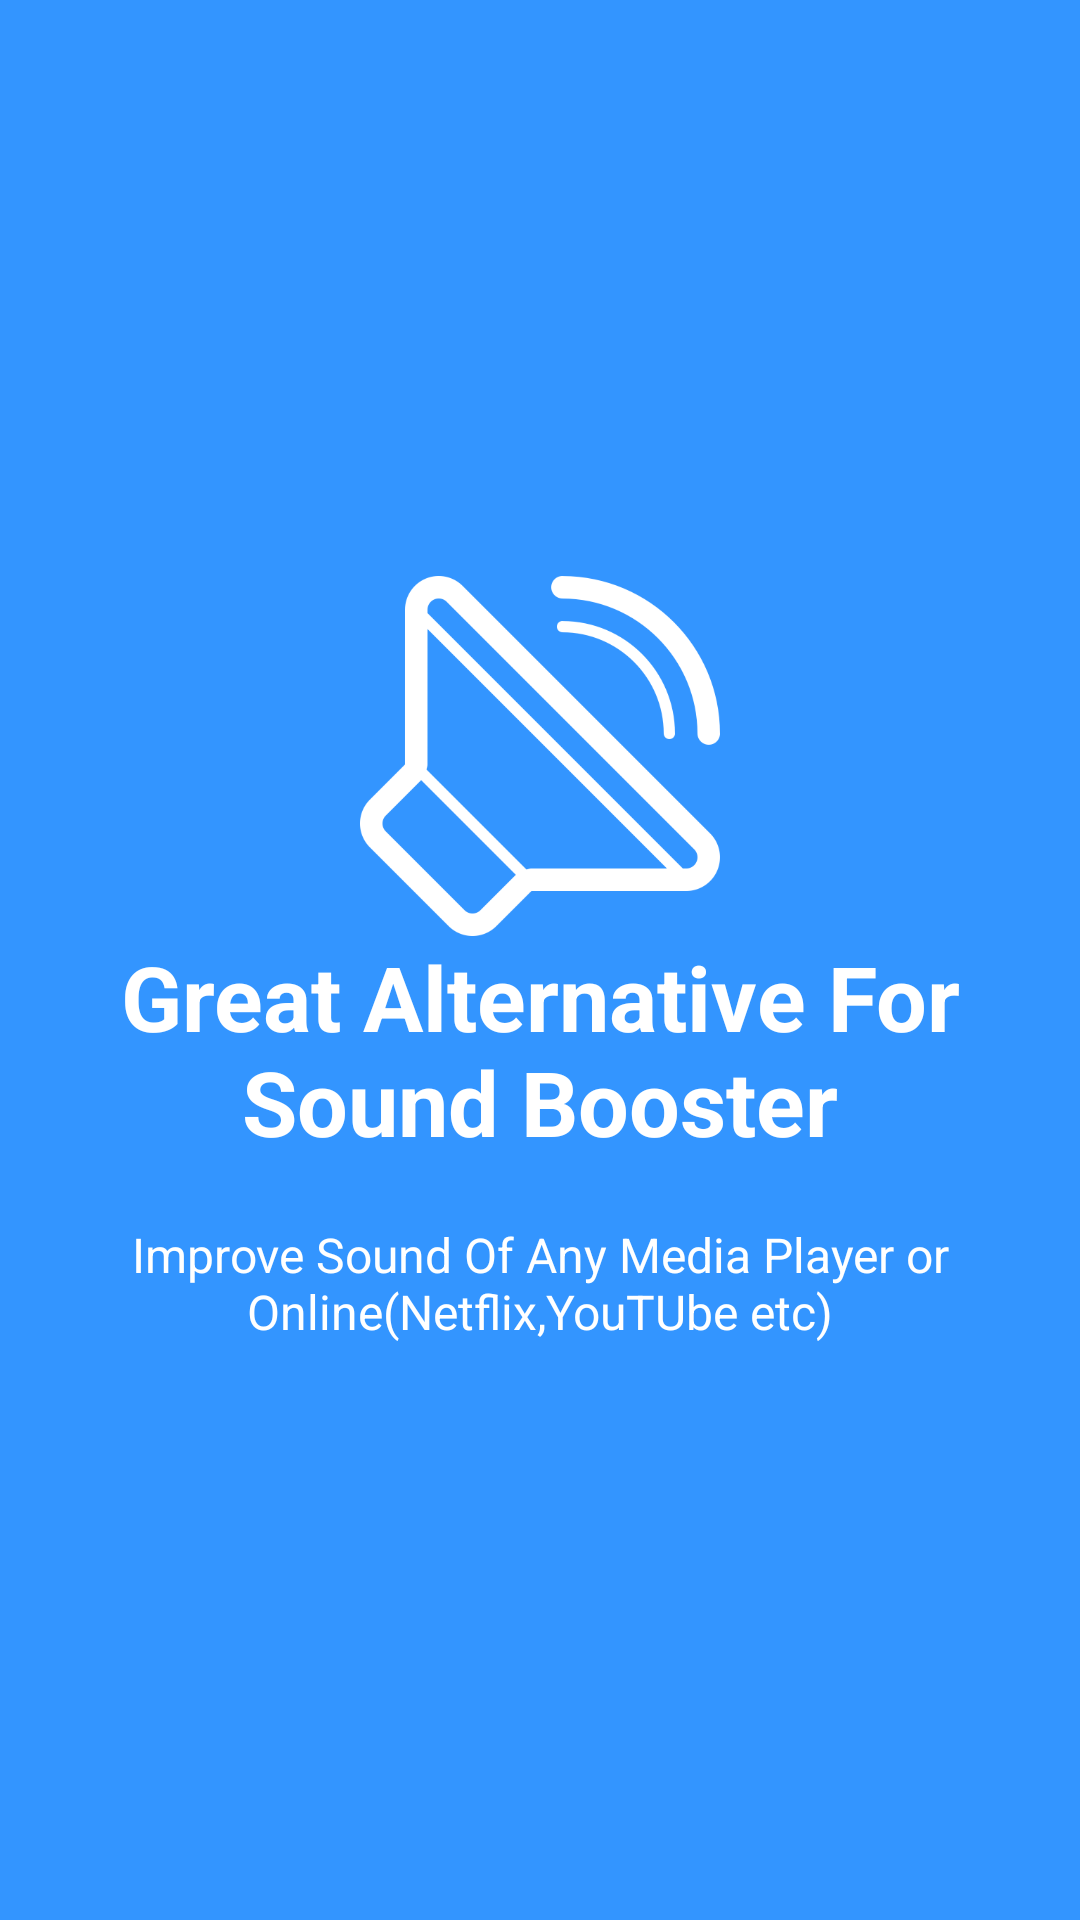

Locate icon controls on the screen. Image size 1080*1920, boxes as (x1, y1, x2, y2).
speaker: (360, 576, 720, 936)
